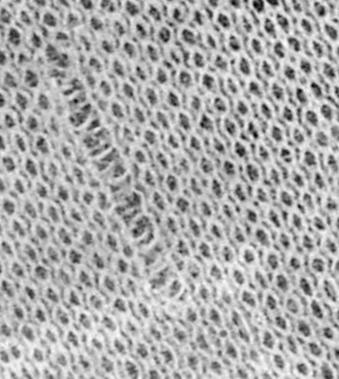slub: (40, 26, 190, 307)
